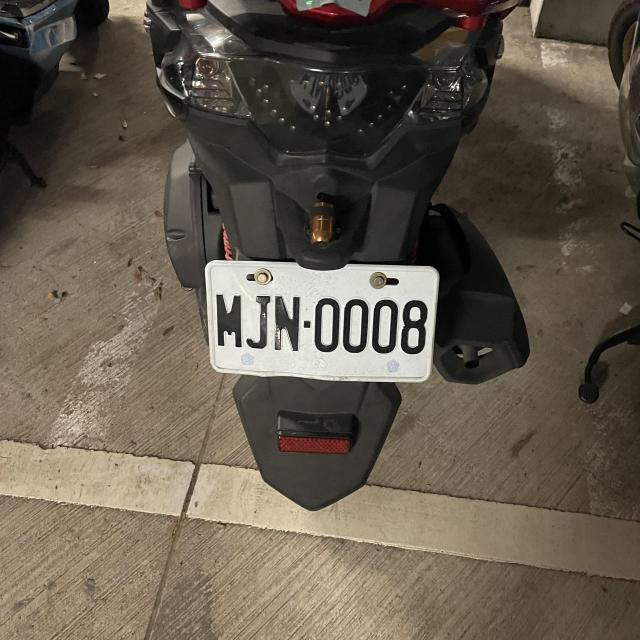W: (202, 258, 440, 384)
